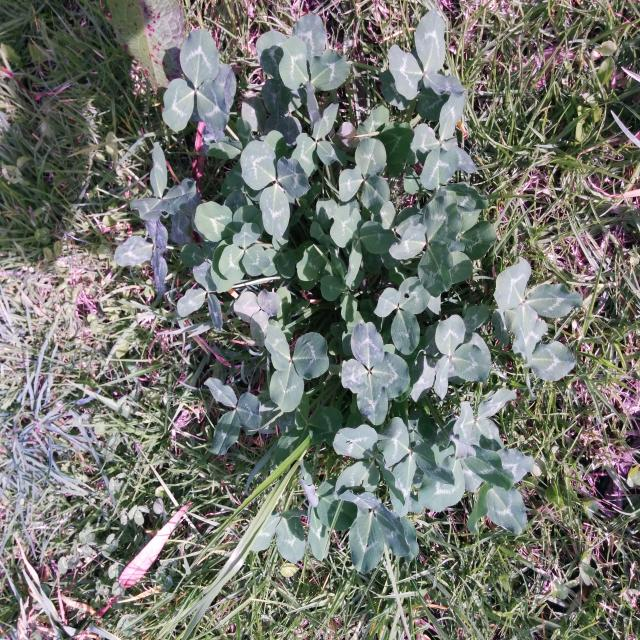Four Leaf Clover: (343, 321, 410, 424)
